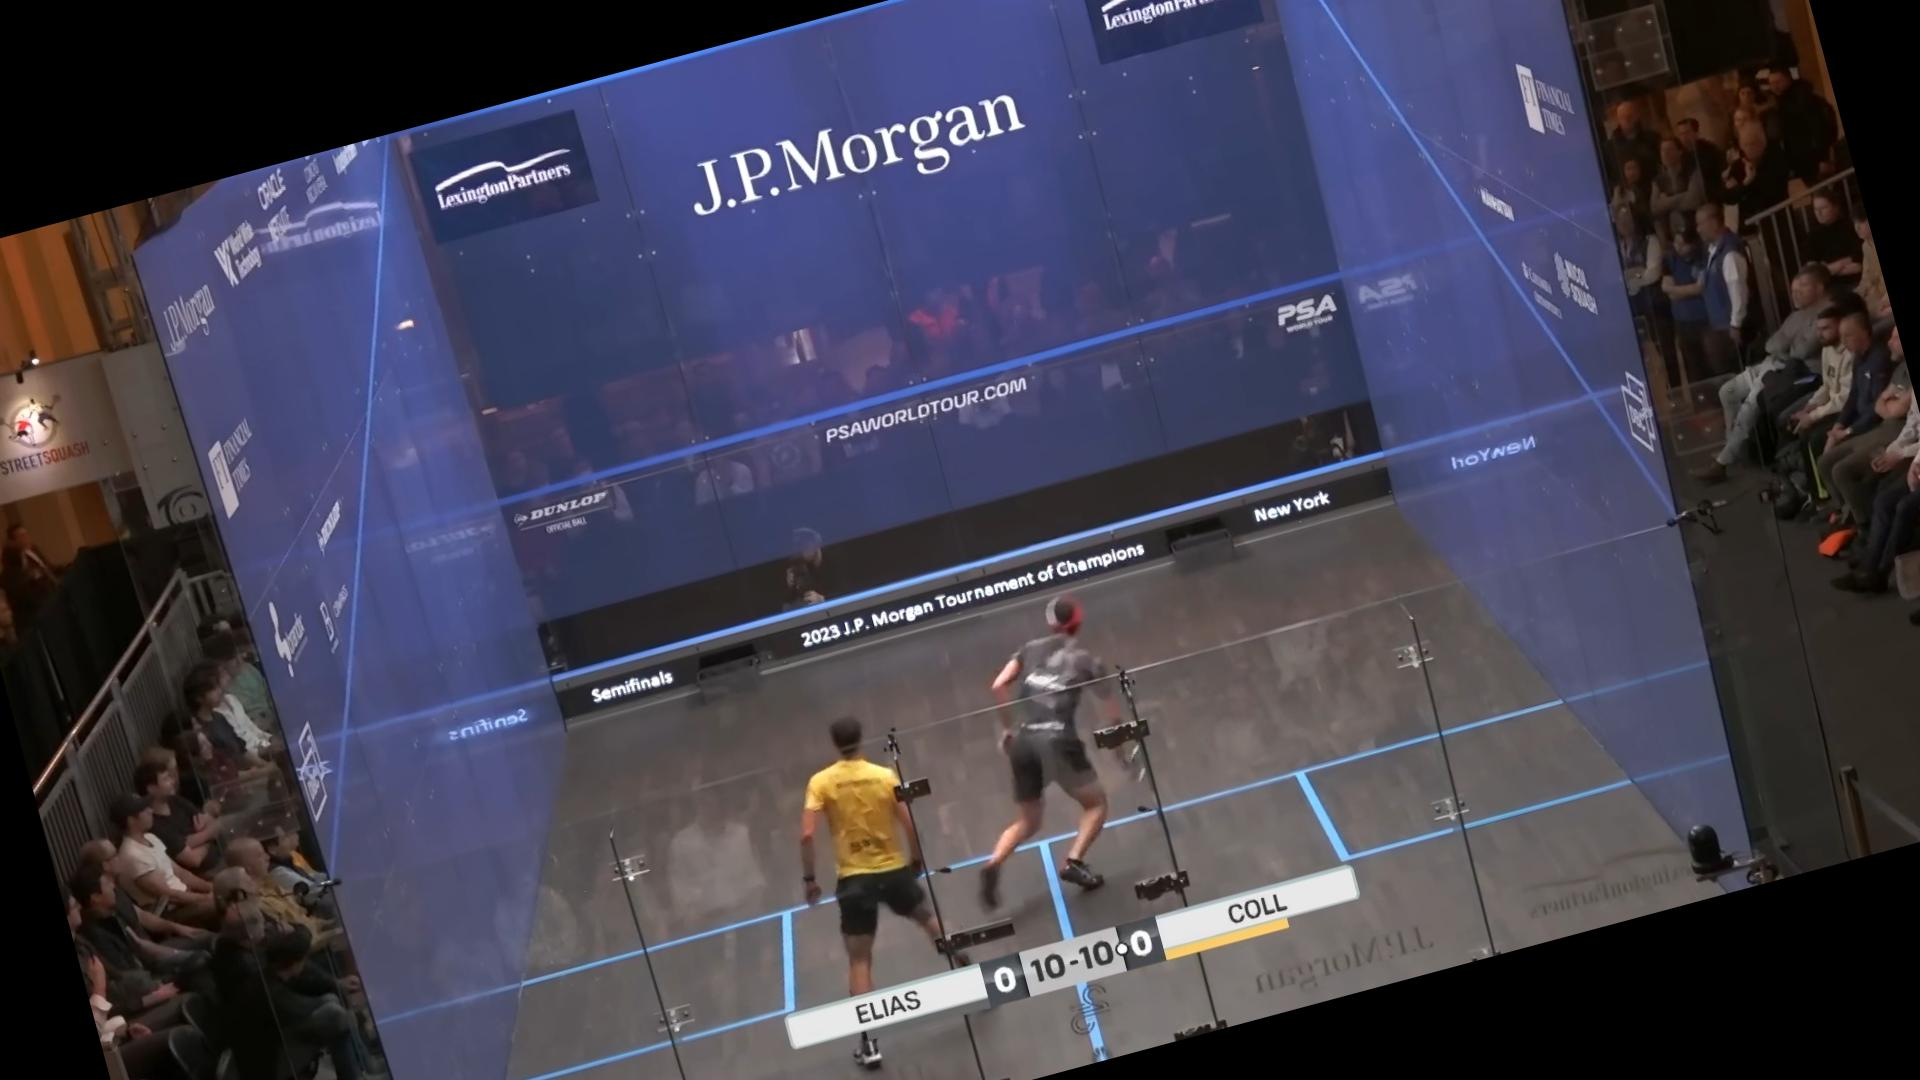Racket: (1114, 728, 1163, 793)
